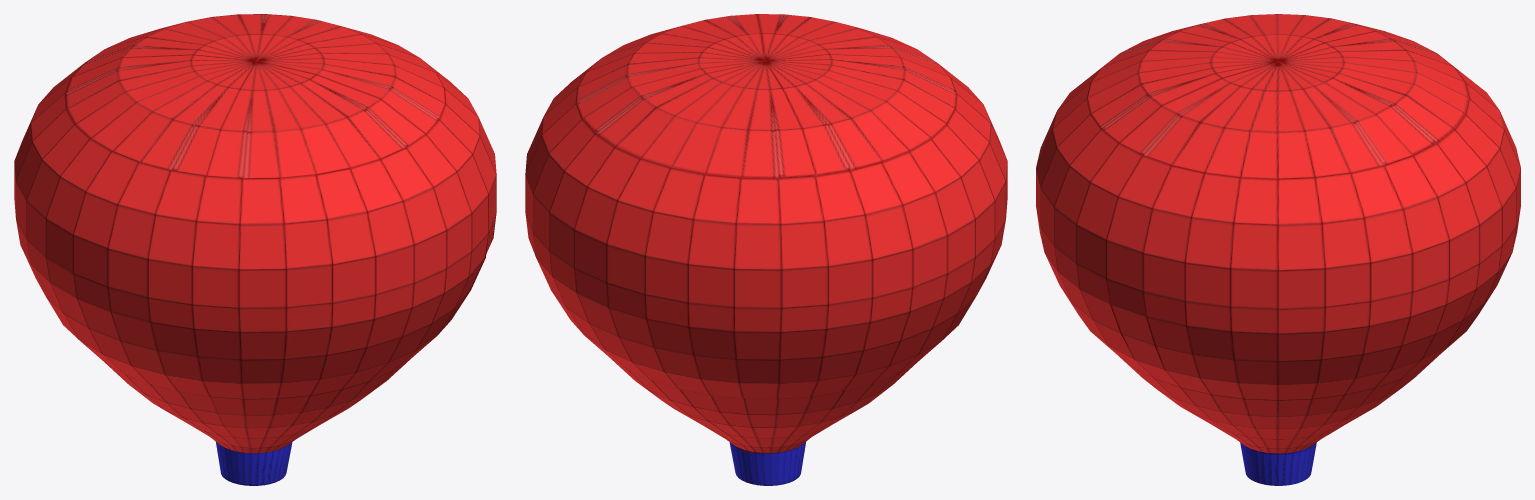
Rendered from withpaintinsideandout.fbx.
3 views of the same model, side by side, from view 1: azimuth 30°, elevation 25°; view 2: azimuth 150°, elevation 25°; view 3: azimuth 270°, elevation 25° (orthographic).
Visible parts, largest first — view 1: Cylinder; view 2: Cylinder; view 3: Cylinder.
Boxes of the visible parts, <box> form: Cylinder: <box>14,14,496,485</box>; Cylinder: <box>525,14,1007,485</box>; Cylinder: <box>1036,14,1520,485</box>.
Bounding box in the file's own units: 1600 × 1499 × 1600.
